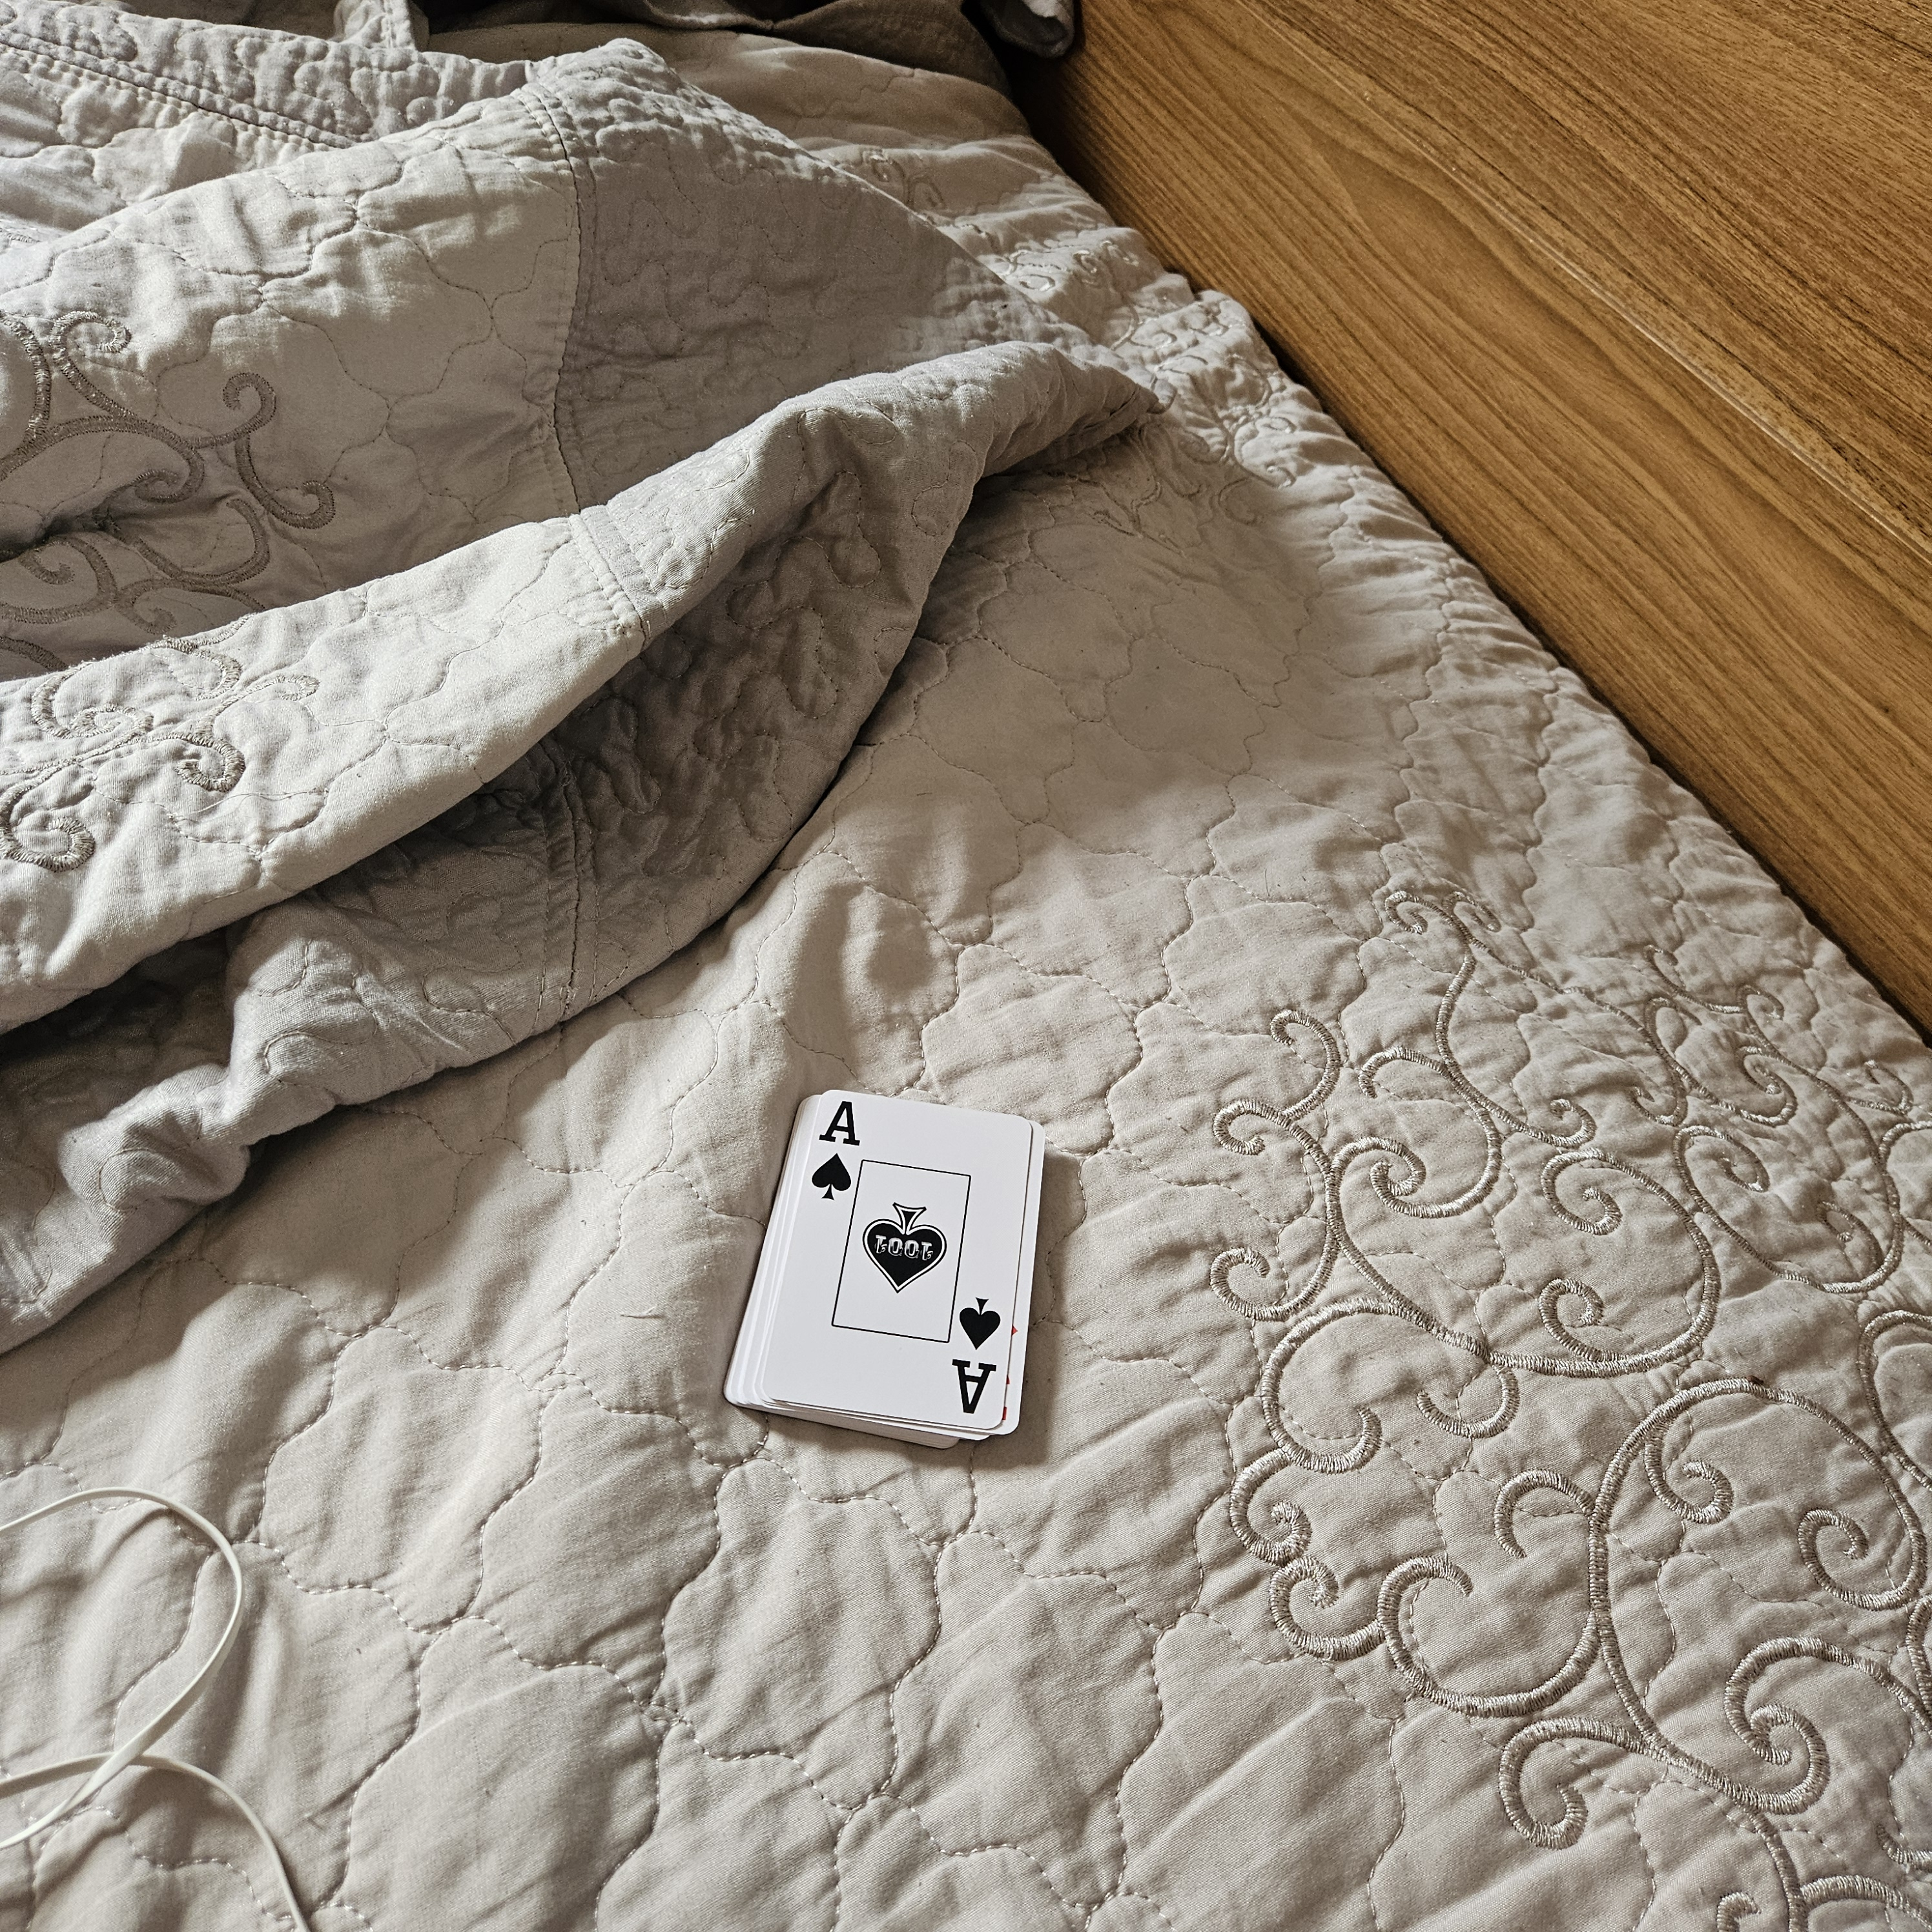AE: (939, 1288, 1010, 1419), (807, 1092, 867, 1208)
